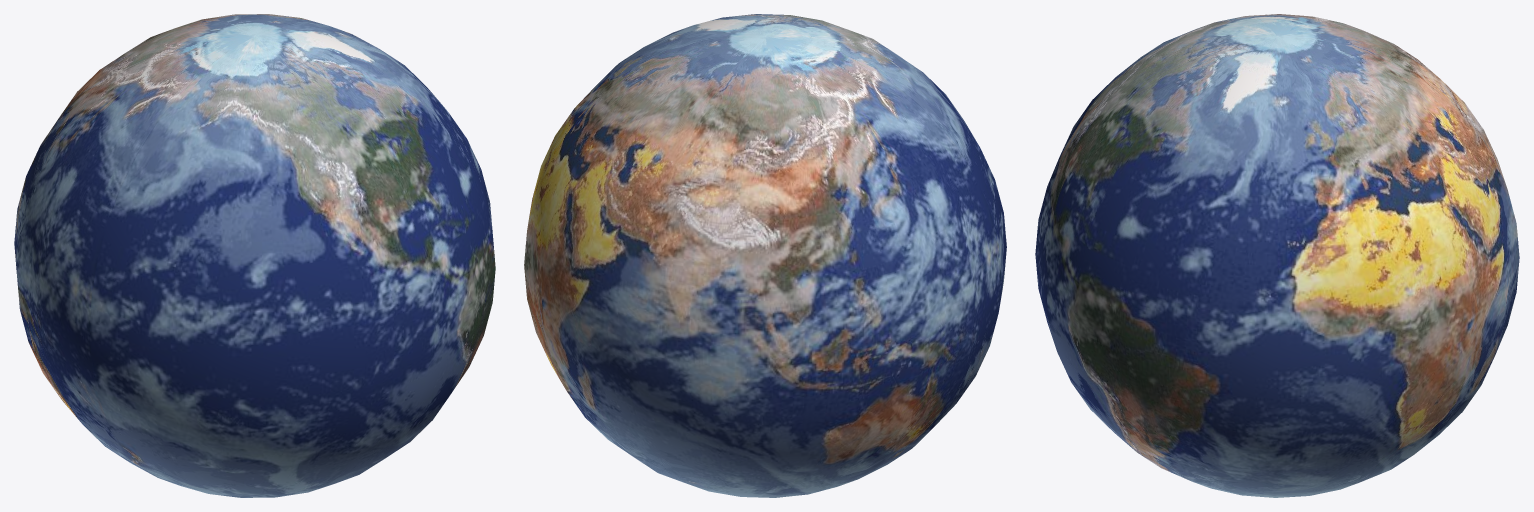
File: earth_model.fbx
3 views of the same model, side by side, from view 1: azimuth 30°, elevation 25°; view 2: azimuth 150°, elevation 25°; view 3: azimuth 270°, elevation 25° (orthographic).
Parts seen in each view (by area): view 1: pSphere1; view 2: pSphere1; view 3: pSphere1.
Boxes of the visible parts, box(x1,y1,x2,y2) form: pSphere1: box(14, 14, 495, 497); pSphere1: box(524, 14, 1006, 497); pSphere1: box(1035, 14, 1519, 497).
Size of the model in its own units: 2 by 2 by 2.
1 material, 1 textured.
